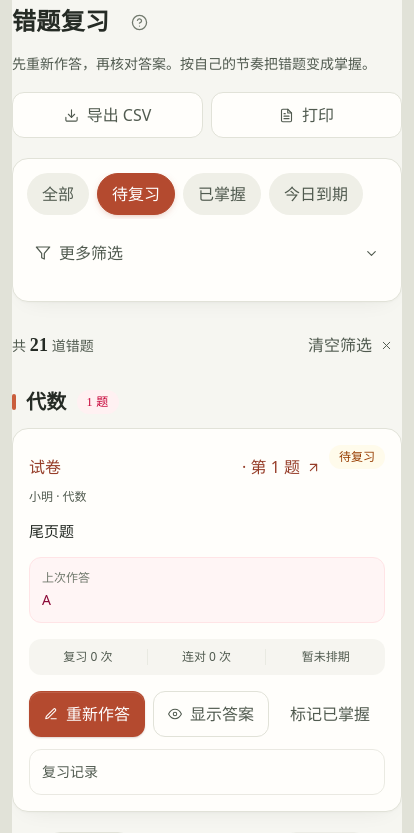
Test: keeps a reasonable page after review removes the last item on a tail page
Step 1. Click the button "标记已掌握" → coordinates (330, 714), box [277,691,383,737]
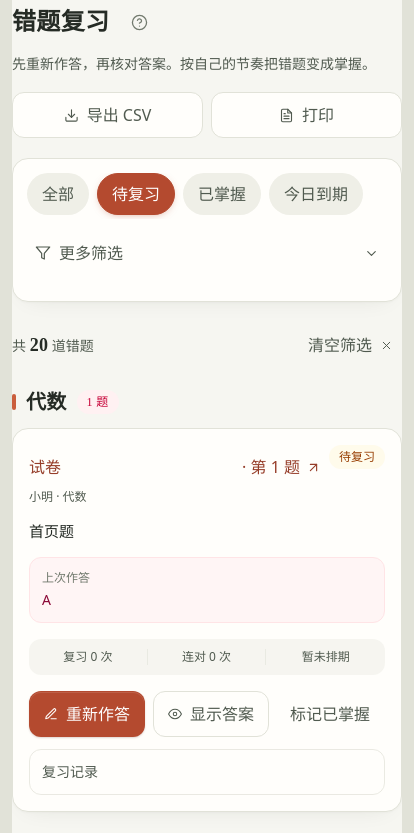
Result: the text "首页题" is shown at [29,521,74,541]
